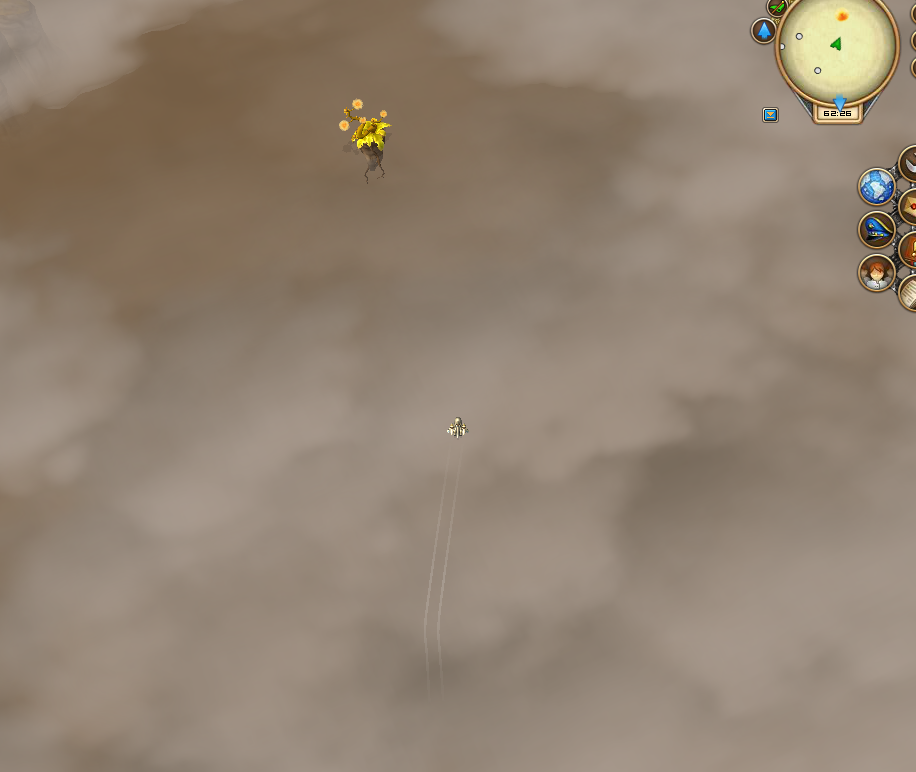dandelion-full: (335, 90, 398, 189)
